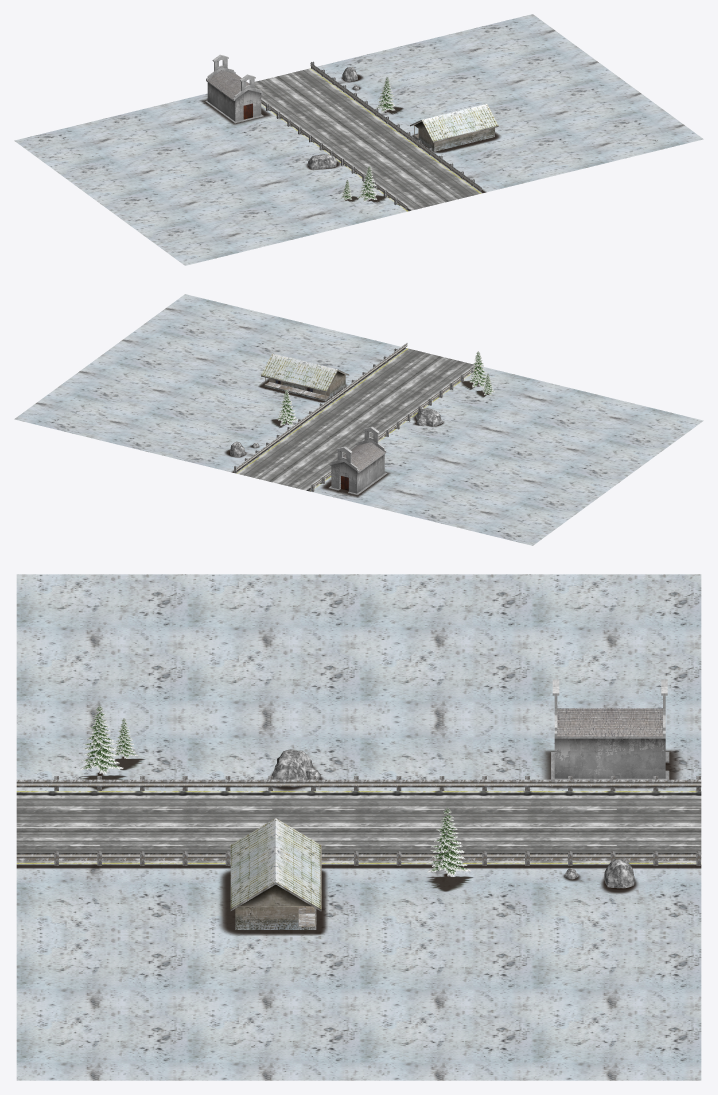
3 views of the same model, one above another, from view 1: azimuth 30°, elevation 25°; view 2: azimuth 150°, elevation 25°; view 3: azimuth 270°, elevation 25° (orthographic). The views are drawn at different scales.
Visible parts, largest first — view 1: scene3, road010, Box040, Box041, Box042, rock006; view 2: scene3, road010, Box040, Box041, Box042, rock006; view 3: scene3, road010, Box040, Box041, Box042, rock006.
Boxes of the visible parts, box(x1,y1,x2,y2) form: scene3: box(14, 14, 703, 265); road010: box(249, 61, 481, 211); Box040: box(410, 104, 498, 151); Box041: box(205, 54, 263, 123); Box042: box(340, 77, 395, 201); rock006: box(307, 67, 359, 169); scene3: box(14, 294, 703, 545); road010: box(234, 343, 481, 491); Box040: box(261, 353, 349, 401); Box041: box(329, 426, 387, 495); Box042: box(276, 351, 494, 425); rock006: box(230, 408, 442, 457); scene3: box(16, 574, 701, 1080); road010: box(16, 776, 701, 865); Box040: box(230, 818, 321, 929); Box041: box(551, 679, 669, 779); Box042: box(80, 705, 470, 876); rock006: box(272, 749, 635, 888).
Size of the model in its own units: 140 by 11.81 by 80.
